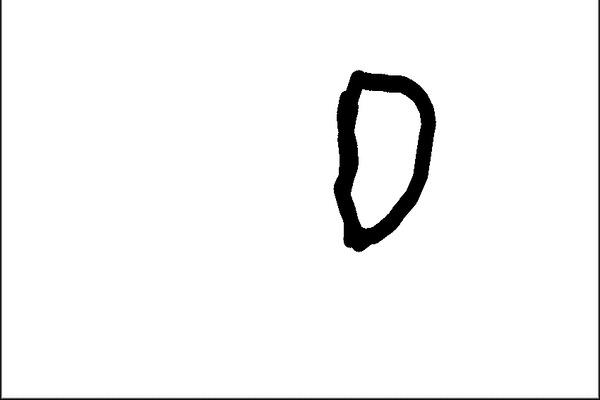D: (332, 65, 441, 257)
